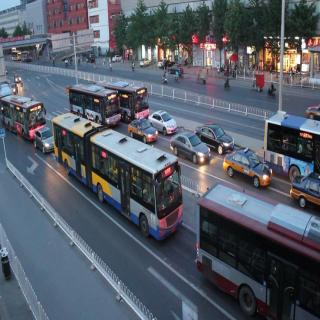BigCar: (50, 112, 180, 244), (199, 179, 319, 320), (262, 106, 320, 181), (67, 81, 123, 128), (1, 92, 48, 141)
Car: (223, 147, 273, 190), (172, 129, 209, 164), (198, 122, 235, 154), (128, 116, 156, 143), (151, 105, 177, 131), (33, 124, 54, 152), (167, 61, 185, 74), (138, 56, 150, 70), (110, 51, 123, 62), (84, 53, 97, 64), (12, 73, 22, 85)
